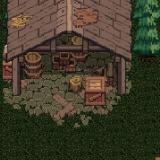Hide: (47, 82, 114, 149)
Obstacle: (0, 0, 133, 130), (133, 0, 160, 160)
